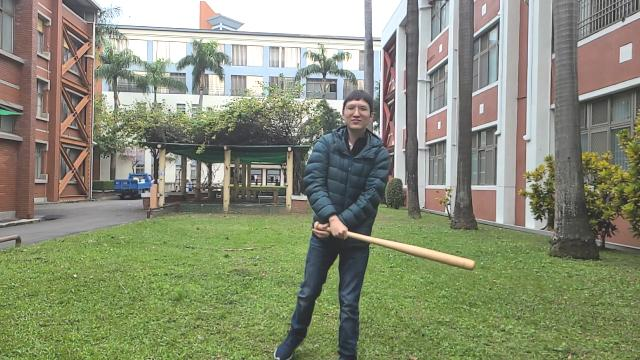baseball bat: (346, 230, 476, 270)
